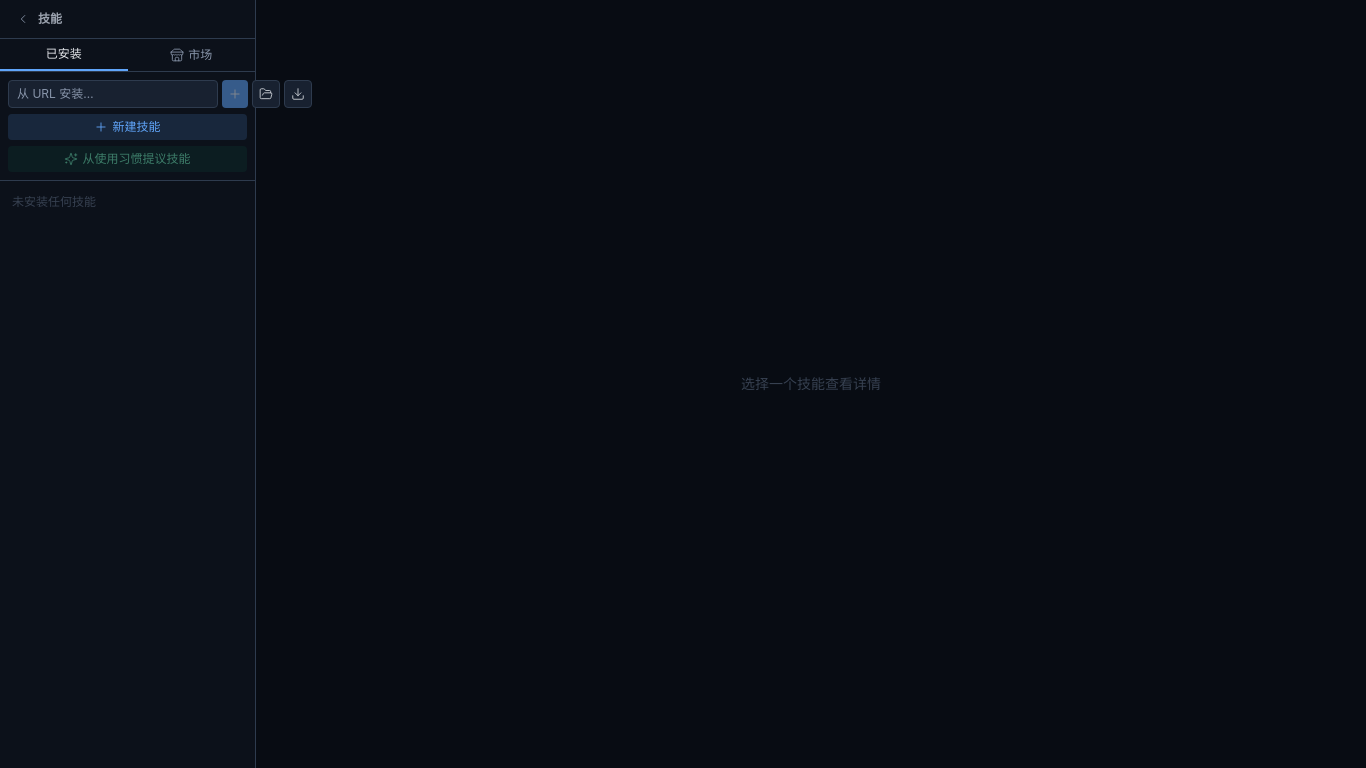
Test: Skill lifecycle continuity › keeps a successful enable visible when only the detail refresh fails
Type "https://example.com/skill.json" into the field with placeholder "从 URL 安装…".
click(113, 94); type("https://example.com/skill.json")  # box [8, 80, 218, 108]
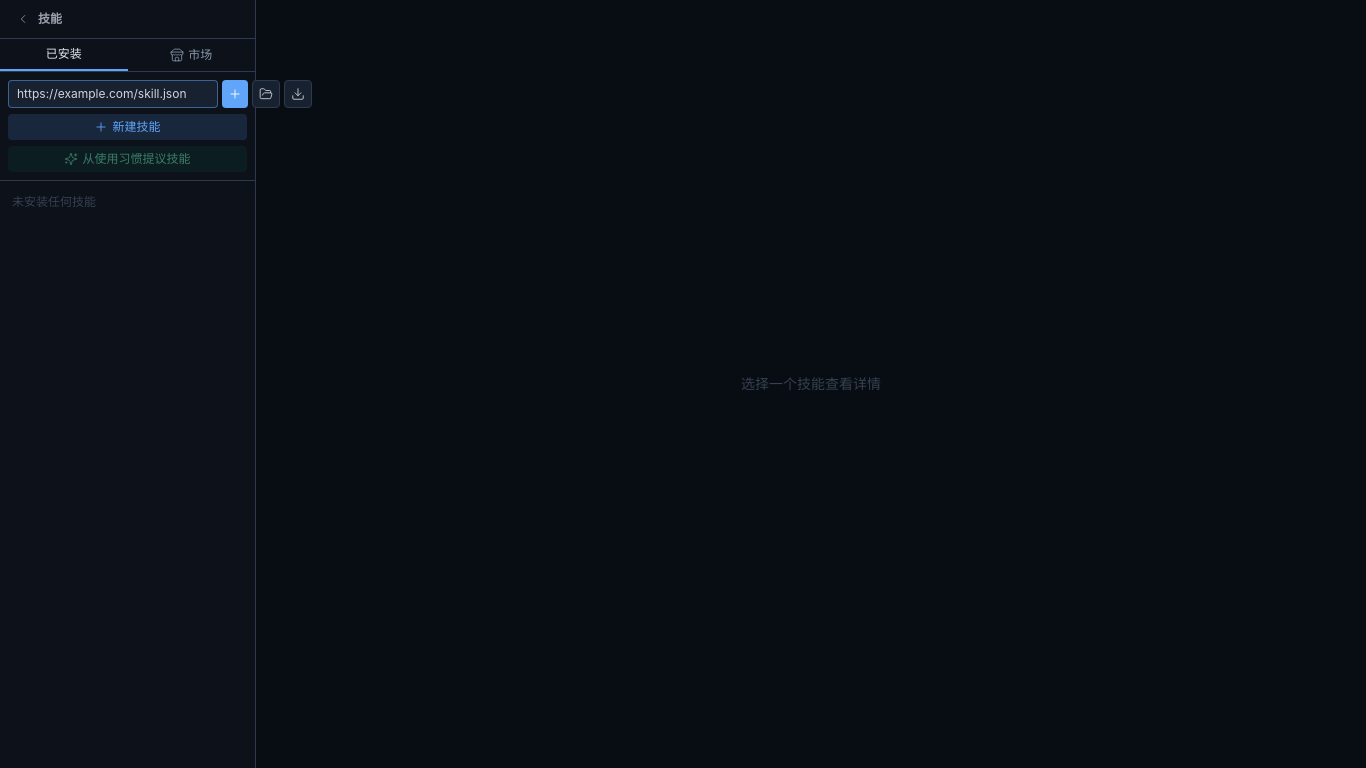
Click the button titled "从 URL 安装技能".
click(235, 94)  # box [222, 80, 248, 108]
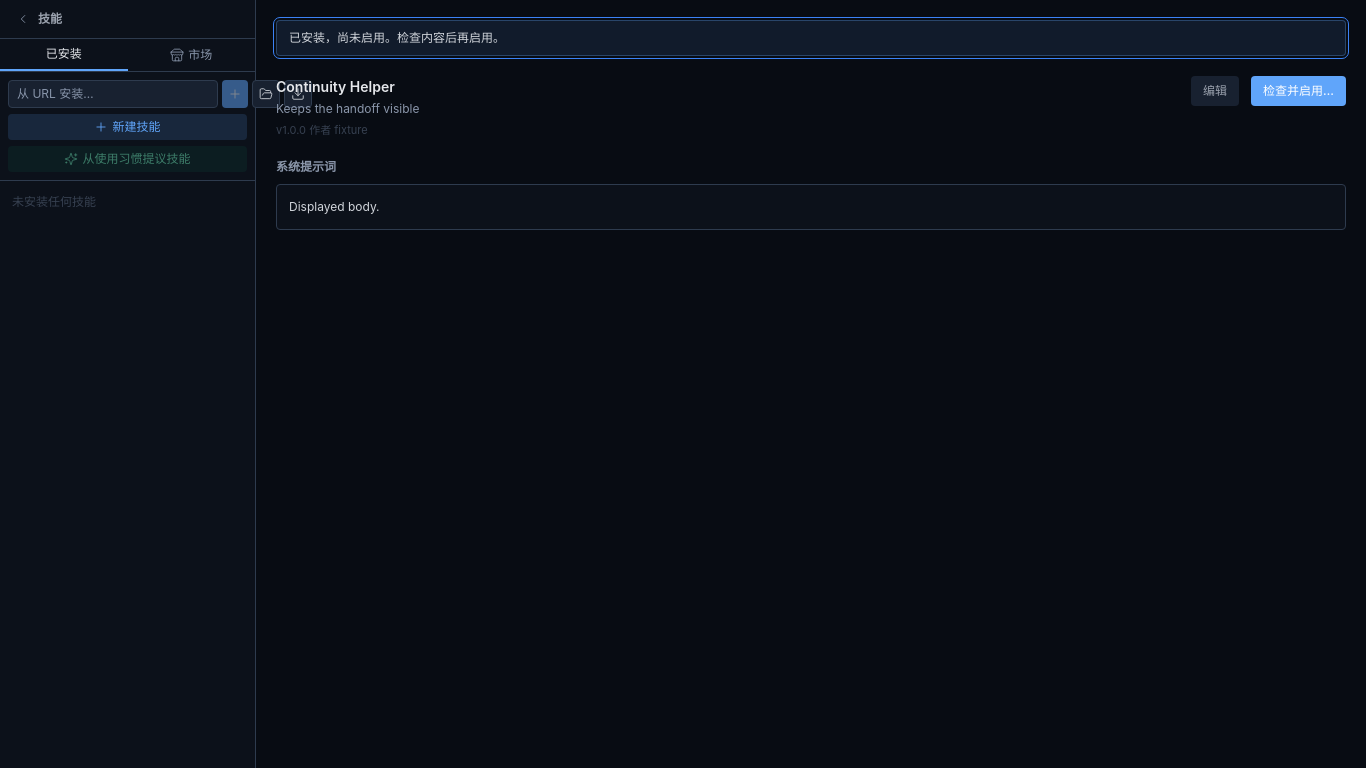
Click the button "检查并启用…".
click(1299, 91)  # box [1251, 76, 1346, 106]
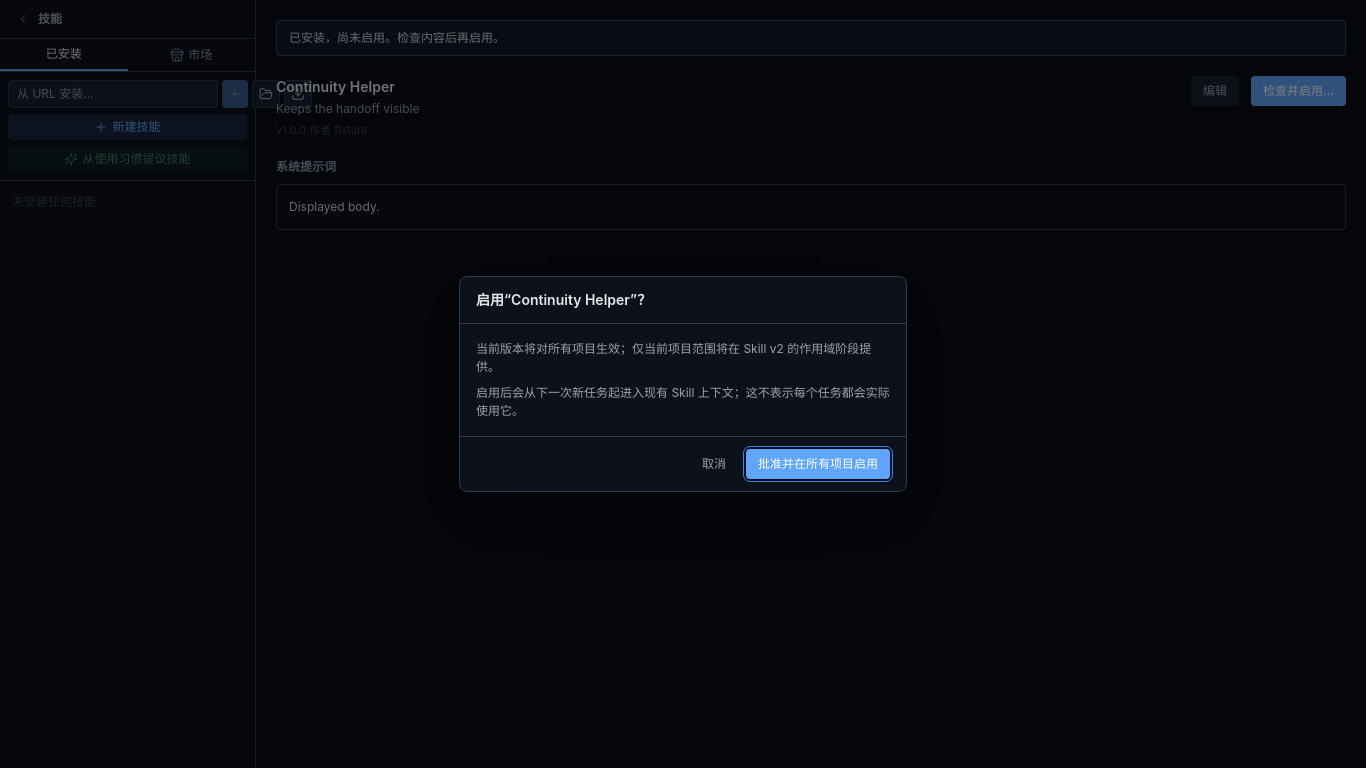
Click the button "批准并在所有项目启用".
click(818, 464)  # box [746, 449, 890, 479]
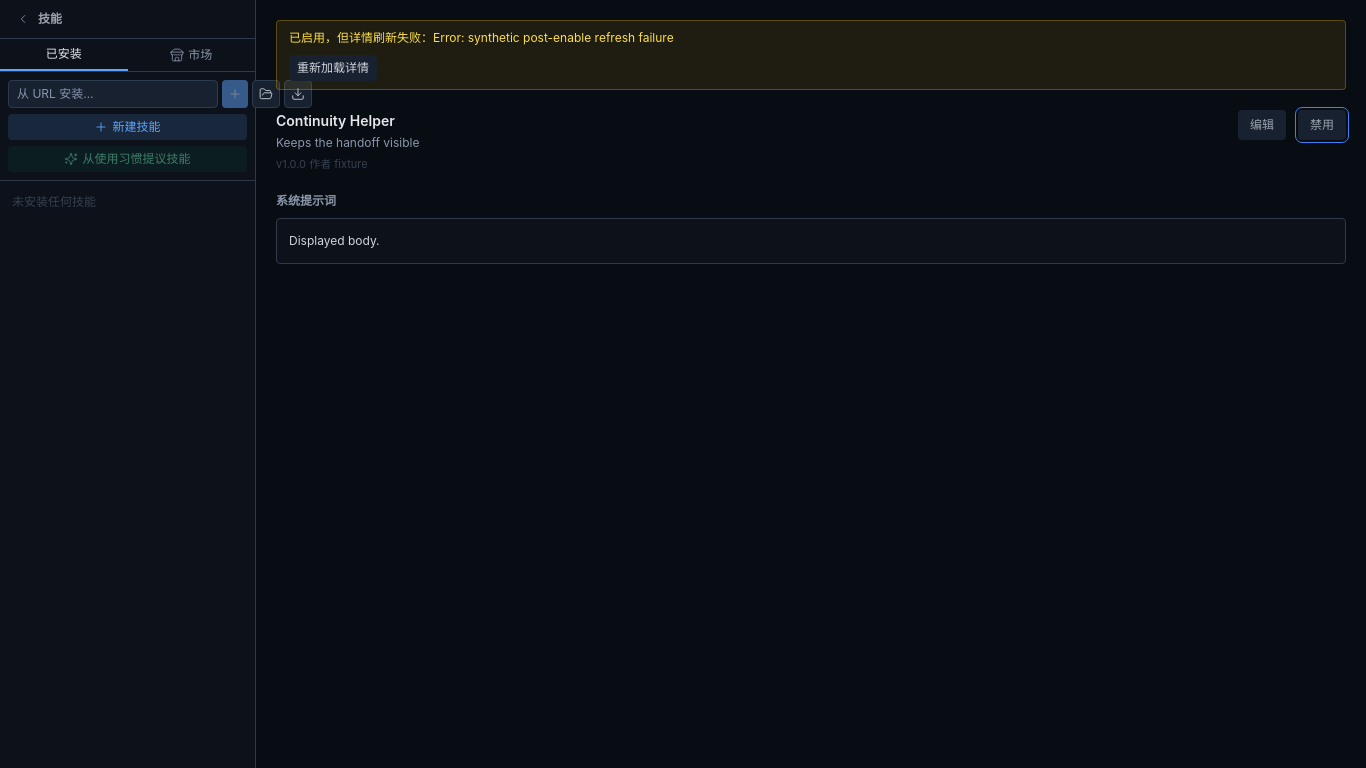
Expected: the button "禁用" is shown, [1298, 110, 1346, 140]
Expected: the message shows "已启用，但详情刷新失败", [289, 30, 674, 45]
Expected: the button "重新加载详情" is shown, [289, 55, 377, 81]
